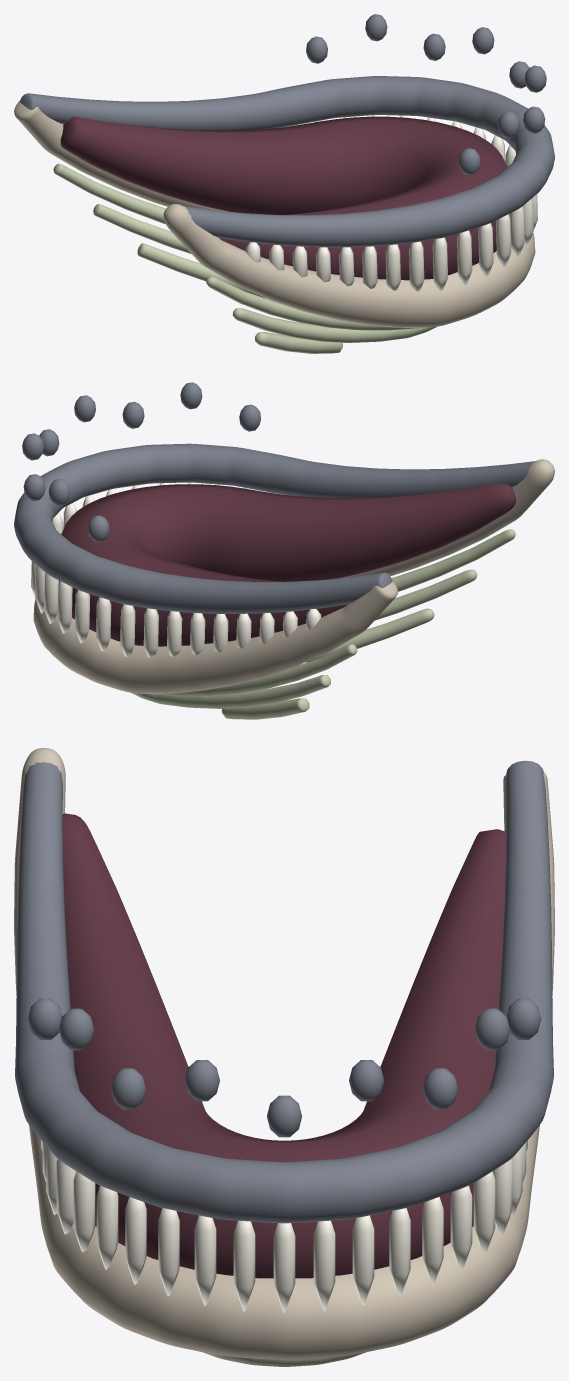
The model's file is creature.filtermouth.glb.
The picture shows the model from 3 angles, top to bottom: view 1: azimuth 30°, elevation 25°; view 2: azimuth 150°, elevation 25°; view 3: azimuth 270°, elevation 25°; orthographic projection. The views are drawn at different scales.
Visible parts, largest first — view 1: Dark, BackSkin, Skin, ShellRim, Claw; view 2: Dark, BackSkin, Skin, ShellRim, Claw; view 3: BackSkin, Dark, Skin, Claw, ShellRim.
Boxes of the visible parts, x1,y1,x2,y2 form: Dark: (60,116,509,280); BackSkin: (20,14,554,247); Skin: (14,101,535,327); ShellRim: (53,163,436,353); Claw: (245,115,537,291); Dark: (59,483,515,646); BackSkin: (14,382,534,613); Skin: (33,459,554,693); ShellRim: (131,529,515,719); Claw: (31,482,321,657); BackSkin: (15,760,553,1223); Dark: (62,813,506,1278); Skin: (14,748,554,1359); Claw: (41,1140,527,1312); ShellRim: (202,1352,366,1366).
Bounding box in the file's own units: 3.18 × 1.56 × 2.13.
